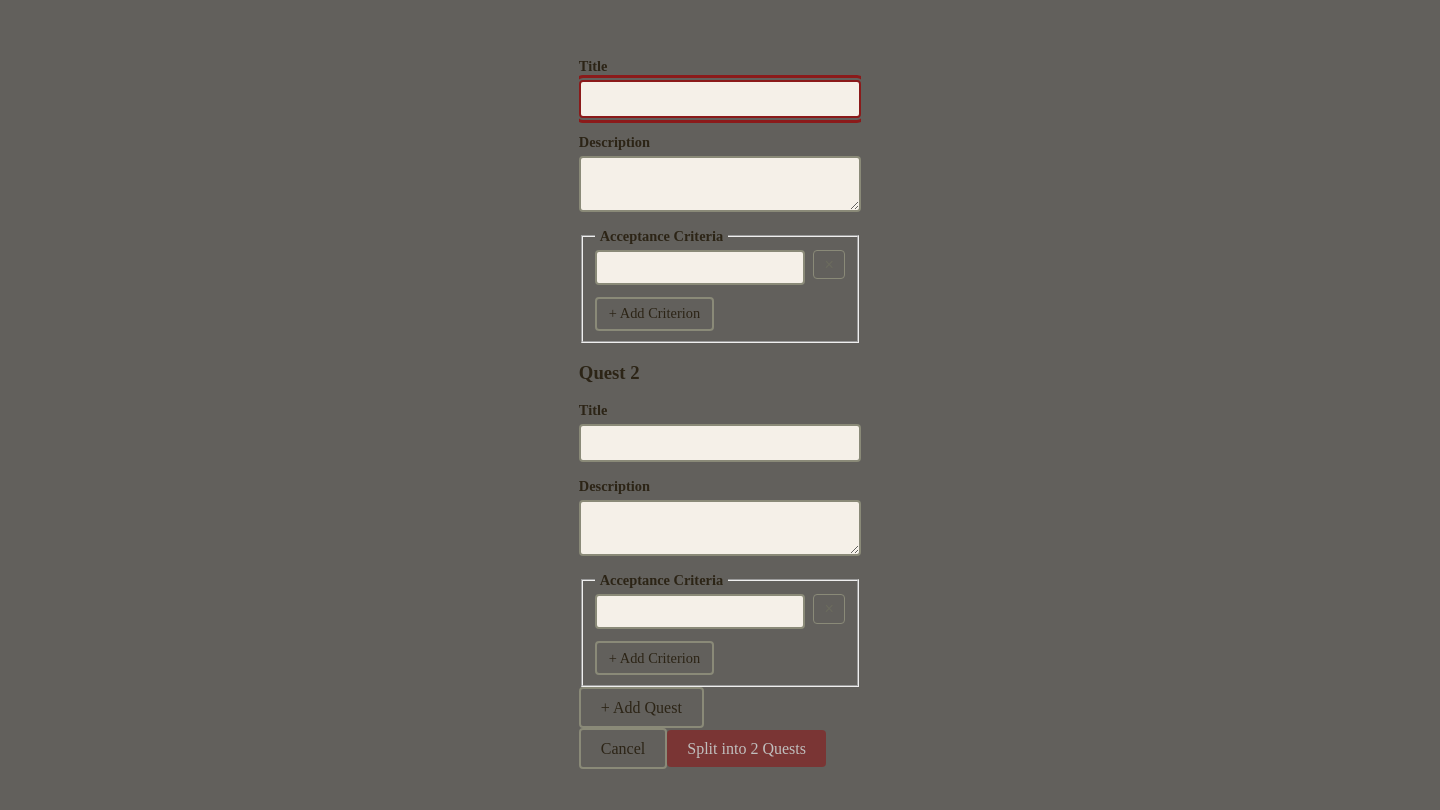
Test: SplitDialog › can add a third child quest
The image size is (1440, 810).
(page scrolled)
Click the button "+ Add Quest": point(641, 708) [579,687,704,728]
(page scrolled)
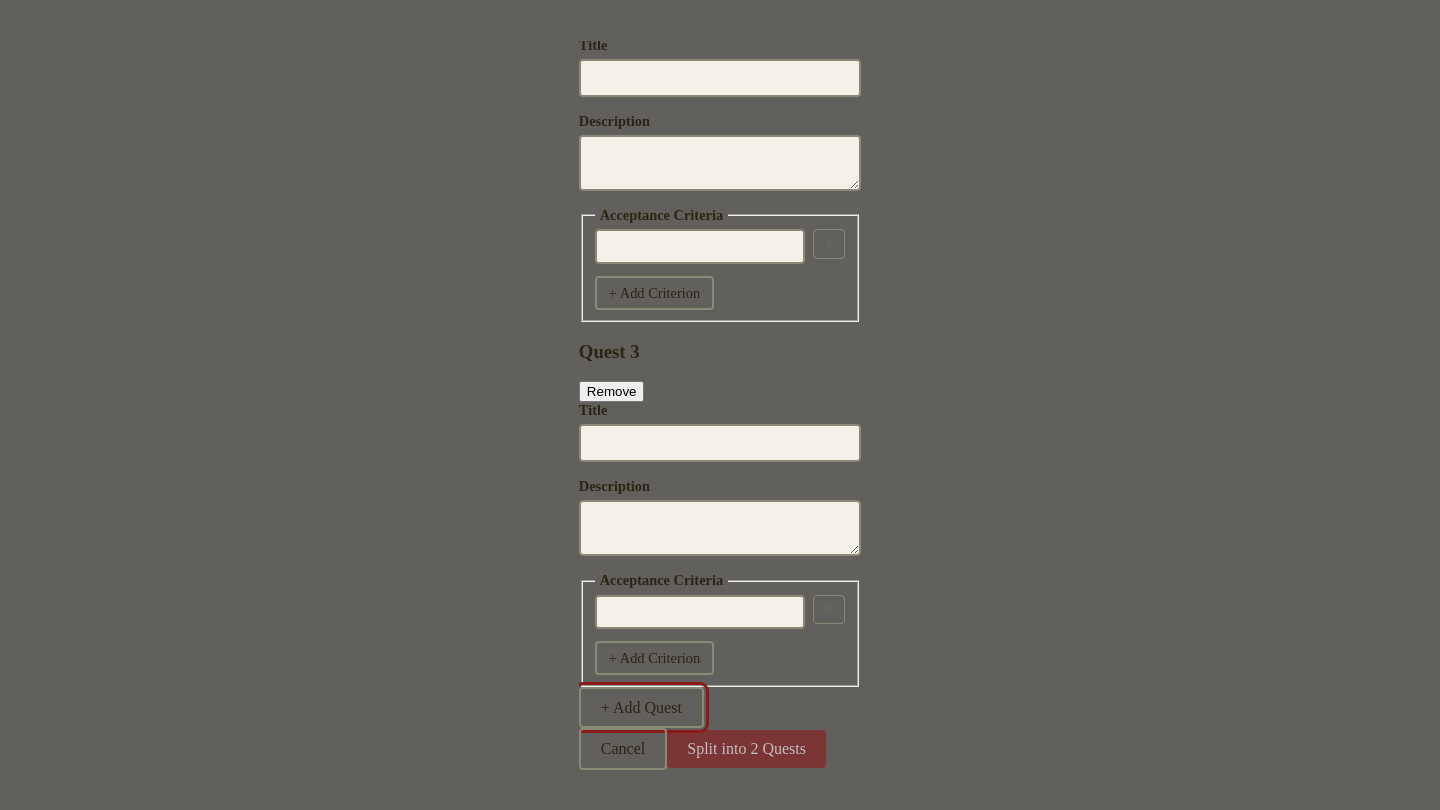
expect the element named "child quest 3" is shown: met, box [579,341,861,687]
